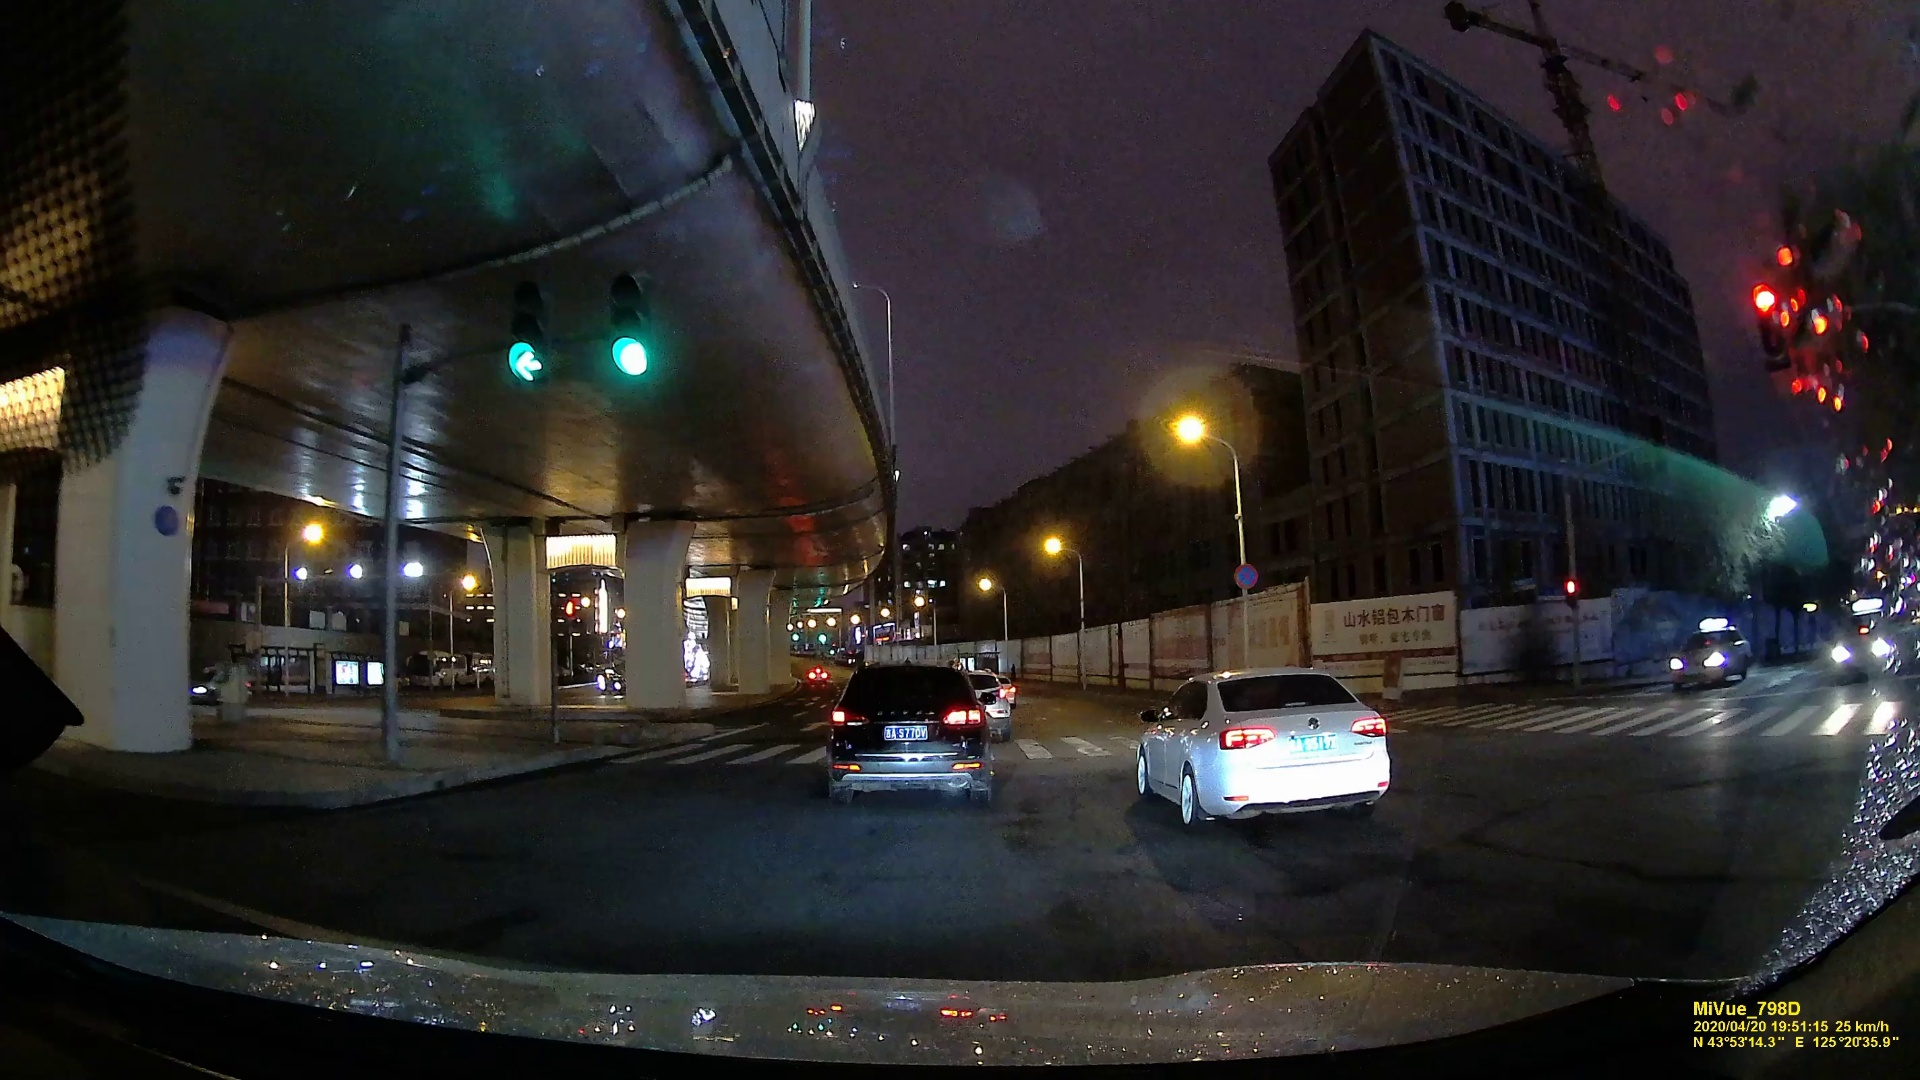traffic_sign: (498, 284, 554, 388), (608, 278, 651, 384), (1236, 564, 1262, 591), (1563, 578, 1578, 607)
vehicle: (1133, 662, 1399, 835), (832, 665, 994, 802), (1818, 617, 1912, 676), (1672, 628, 1756, 690), (804, 665, 829, 684)
